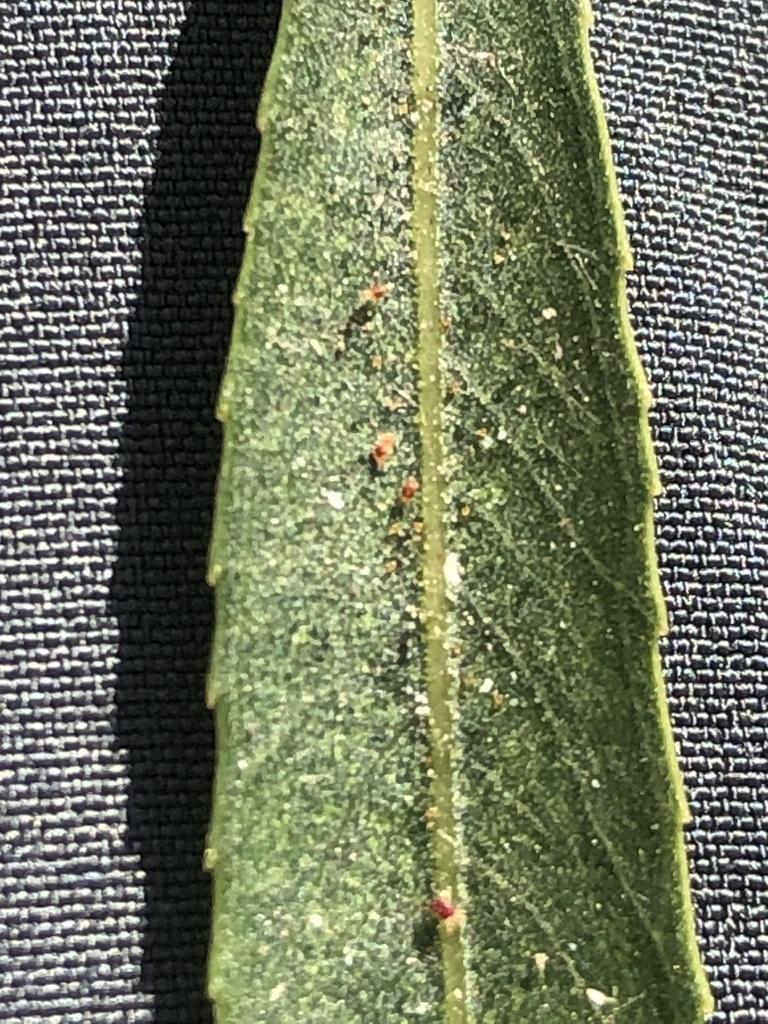tiny_pests: (414, 878, 475, 945), (348, 260, 407, 322), (356, 416, 406, 476), (383, 471, 427, 509)
